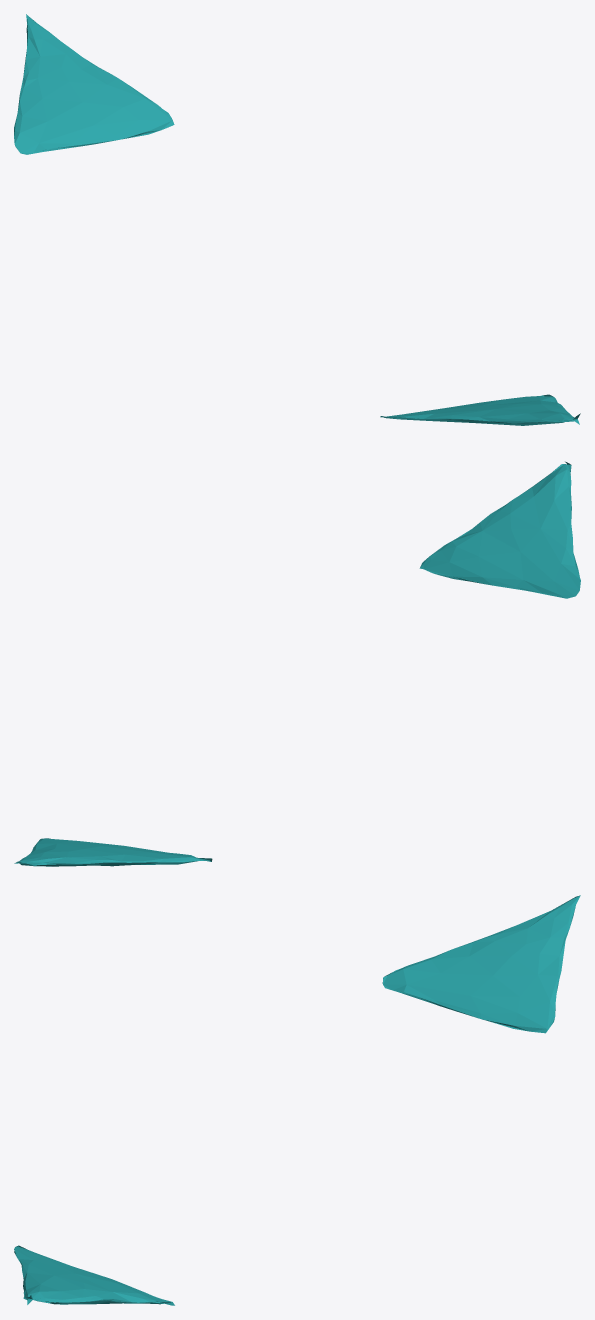
3 renders of one model, top to bottom at view 1: azimuth 30°, elevation 25°; view 2: azimuth 150°, elevation 25°; view 3: azimuth 330°, elevation 25°, orthographic.
Parts seen in each view (by area): view 1: 401.obj; view 2: 401.obj; view 3: 401.obj.
Part boxes in pixels (bbox=[...]): 401.obj: bbox=[14, 14, 580, 425]; 401.obj: bbox=[14, 461, 580, 866]; 401.obj: bbox=[14, 895, 580, 1305].
Bounding box in the file's own units: 733 × 274 × 4341.
